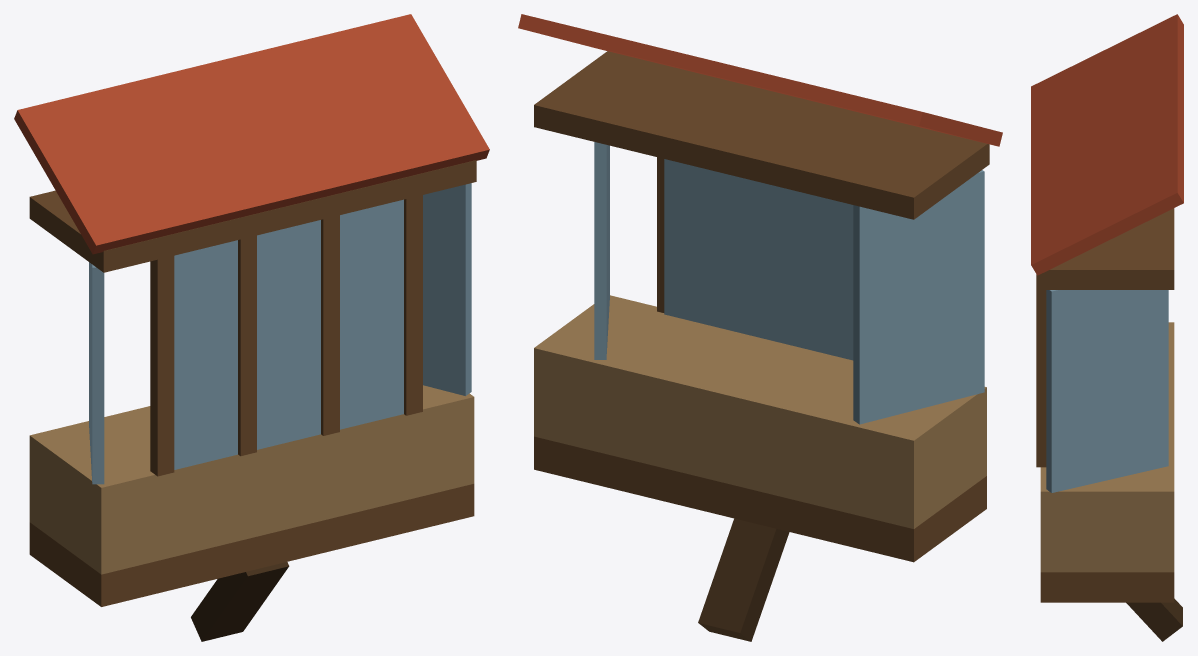
File: mv_bay_window.glb
The picture shows the model from 3 angles, left to right: view 1: azimuth 30°, elevation 25°; view 2: azimuth 150°, elevation 25°; view 3: azimuth 270°, elevation 25°; orthographic projection. The views are drawn at different scales.
Parts seen in each view (by area): view 1: mv_bay_window; view 2: mv_bay_window; view 3: mv_bay_window.
Boxes of the visible parts, bbox=[...] form: mv_bay_window: bbox=[14, 14, 489, 641]; mv_bay_window: bbox=[518, 14, 1002, 641]; mv_bay_window: bbox=[1031, 14, 1183, 641].
Size of the model in its own units: 1.9 by 2.63 by 0.6885.
